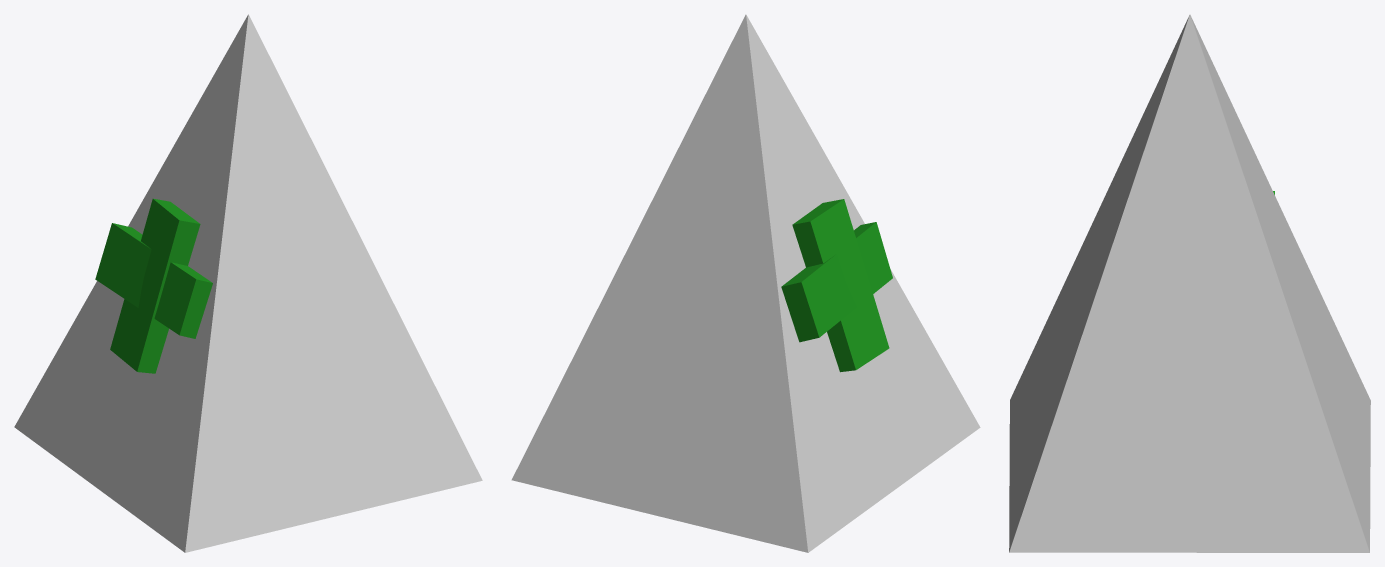
The model's file is cadir.fbx.
The picture shows the model from 3 angles, left to right: view 1: azimuth 30°, elevation 25°; view 2: azimuth 150°, elevation 25°; view 3: azimuth 270°, elevation 25°; orthographic projection. The views are drawn at different scales.
Visible parts, largest first — view 1: Cone, Cube; view 2: Cone, Cube; view 3: Cone.
Part boxes in pixels (left/top/right/bottom): Cone: left=14, top=14, right=482, bottom=552; Cube: left=95, top=198, right=212, bottom=373; Cone: left=511, top=14, right=980, bottom=552; Cube: left=781, top=199, right=892, bottom=372; Cone: left=1009, top=14, right=1370, bottom=552.
Bounding box in the file's own units: 177 × 249 × 177.
